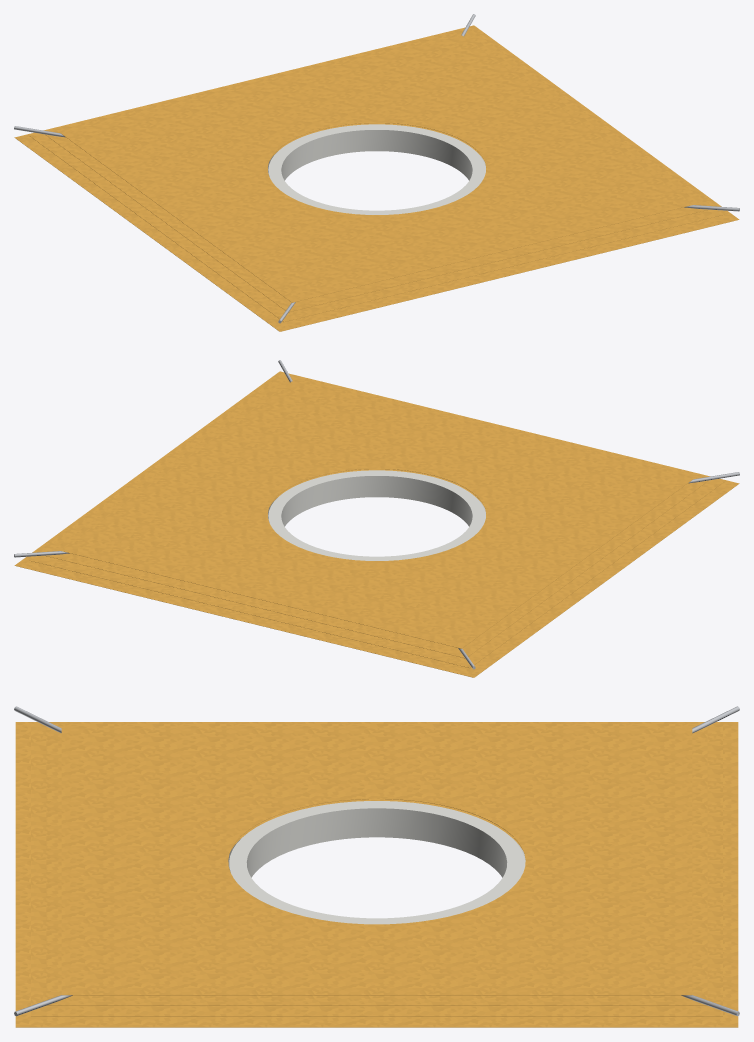
File: ax_util_30_sunshade_l_deployed.glb
3 views of the same model, one above another, from view 1: azimuth 30°, elevation 25°; view 2: azimuth 150°, elevation 25°; view 3: azimuth 270°, elevation 25° (orthographic). The views are drawn at different scales.
Parts seen in each view (by area): view 1: membrane_layers, canister_ring, booms; view 2: membrane_layers, canister_ring, booms; view 3: membrane_layers, canister_ring, booms.
Boxes of the visible parts, x1,y1,x2,y2 form: membrane_layers: (14, 25, 739, 331); canister_ring: (268, 124, 485, 214); booms: (14, 14, 739, 323); membrane_layers: (14, 371, 739, 677); canister_ring: (268, 470, 485, 560); booms: (14, 360, 739, 669); membrane_layers: (15, 722, 738, 1027); canister_ring: (228, 801, 525, 924); booms: (14, 706, 739, 1016).
Size of the model in its own units: 9.06 by 0.455 by 9.06.
Materials: 3 (2 with a texture image).
